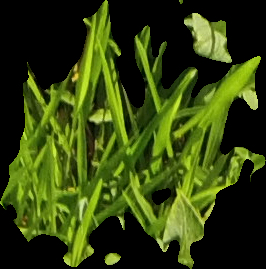grass: (1, 1, 263, 267)
